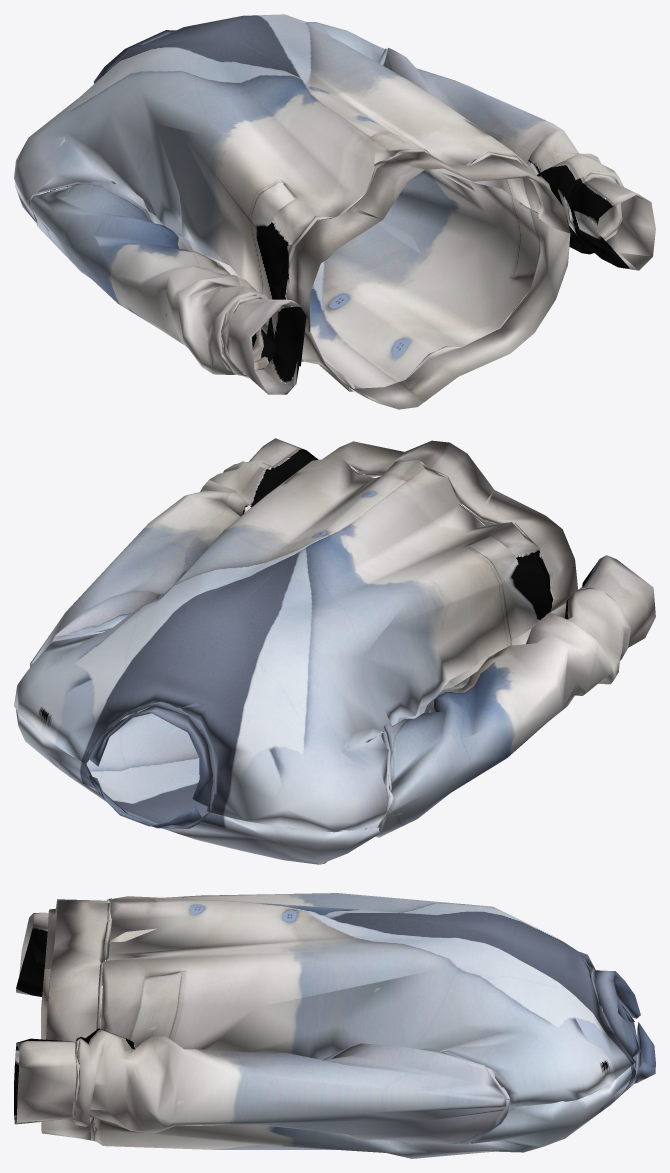
The model's file is longsleeve2a.glb.
3 views of the same model, one above another, from view 1: azimuth 30°, elevation 25°; view 2: azimuth 150°, elevation 25°; view 3: azimuth 270°, elevation 25° (orthographic).
Visible parts, largest first — view 1: dress.001; view 2: dress.001; view 3: dress.001.
Boxes of the visible parts, box(x1,y1,x2,y2) form: dress.001: box(14, 14, 655, 409); dress.001: box(14, 438, 655, 864); dress.001: box(14, 893, 655, 1158).
Bounding box in the file's own units: 1.18 × 0.62 × 1.53.
Materials: 1 (1 with a texture image).
